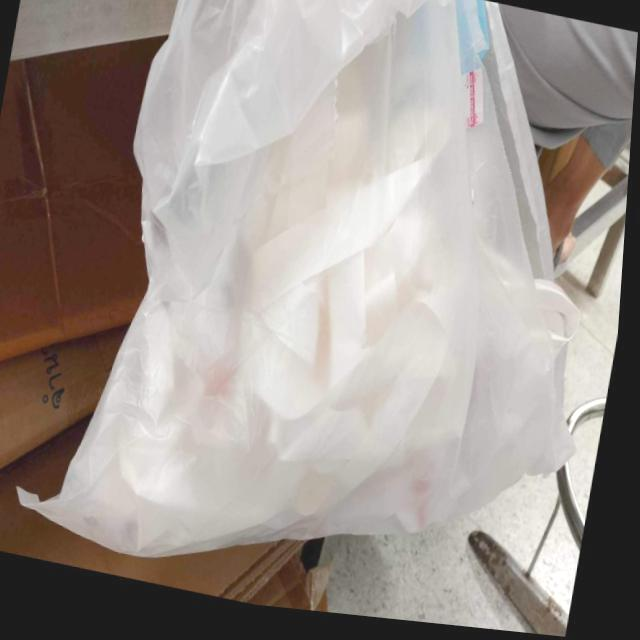Infectious: (17, 0, 582, 558)
Sharps: (467, 528, 569, 635)
